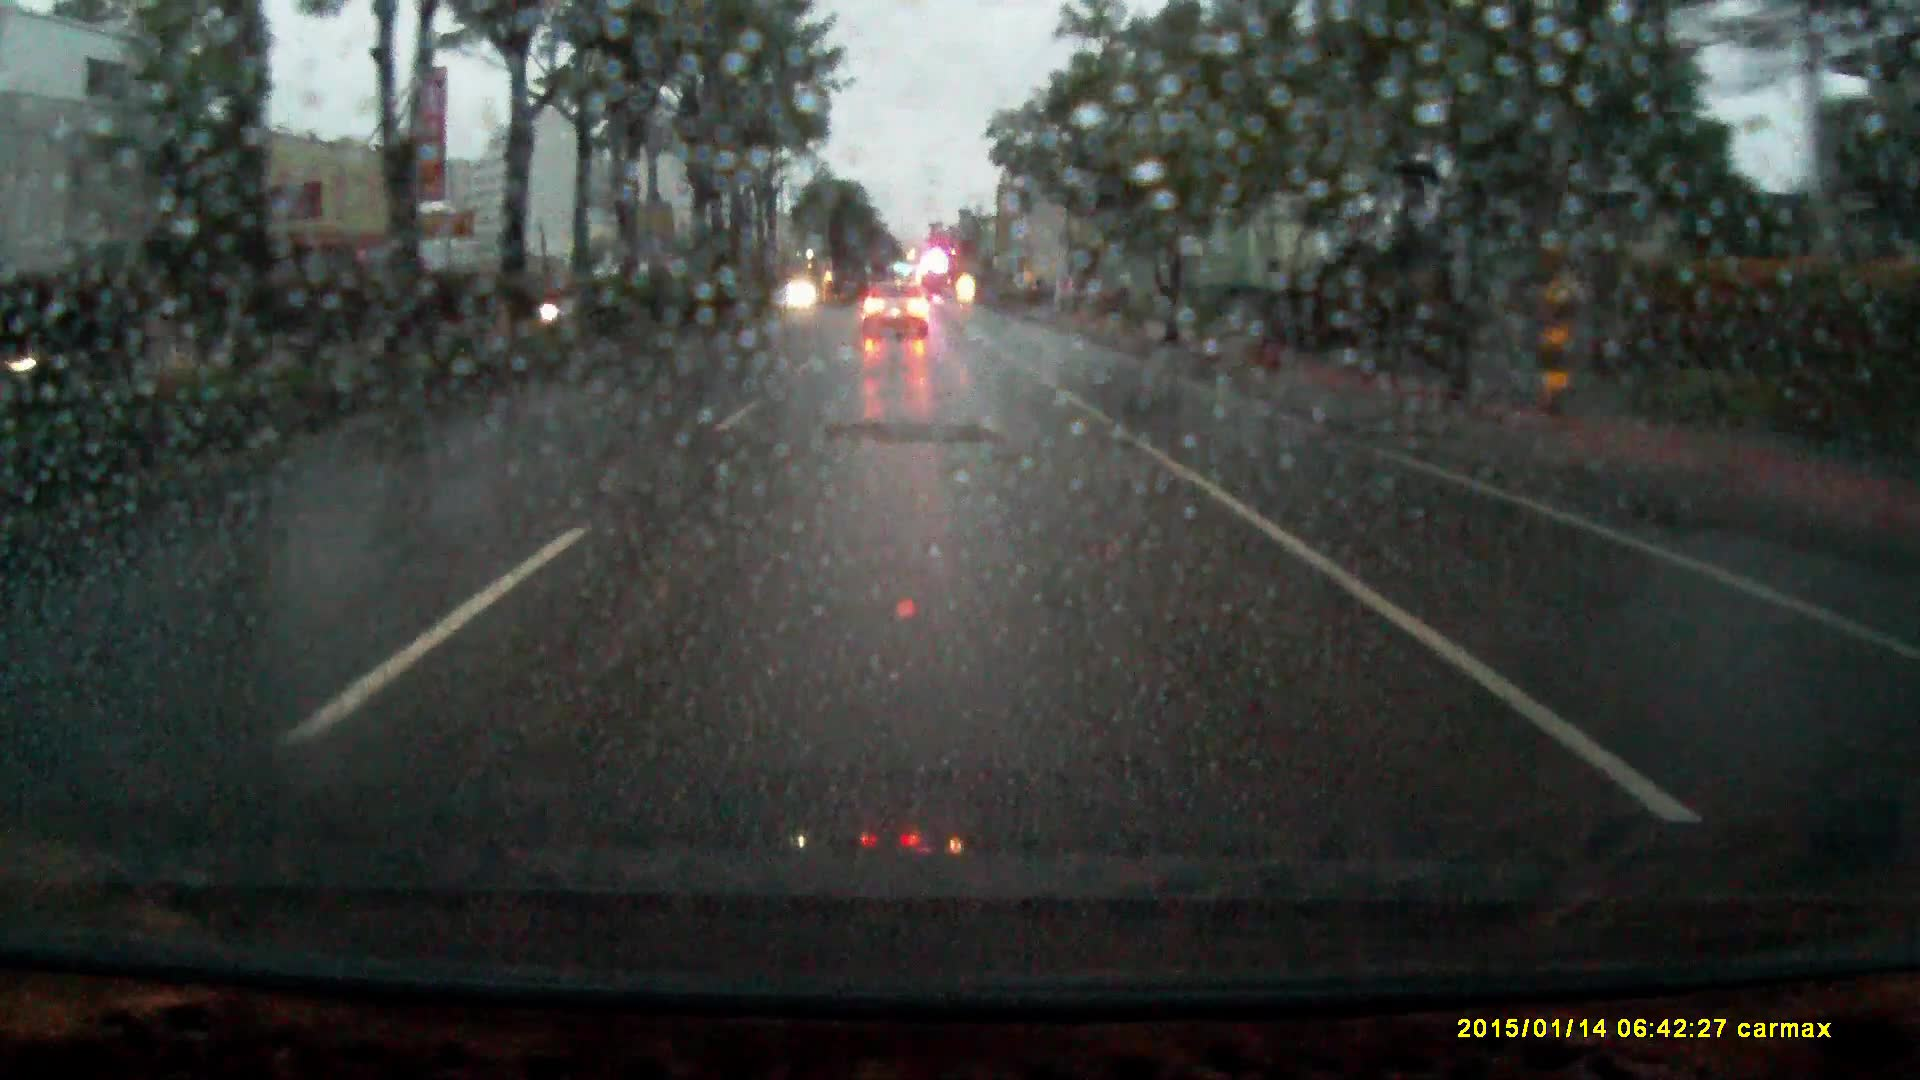vehicle: (862, 284, 931, 342)
